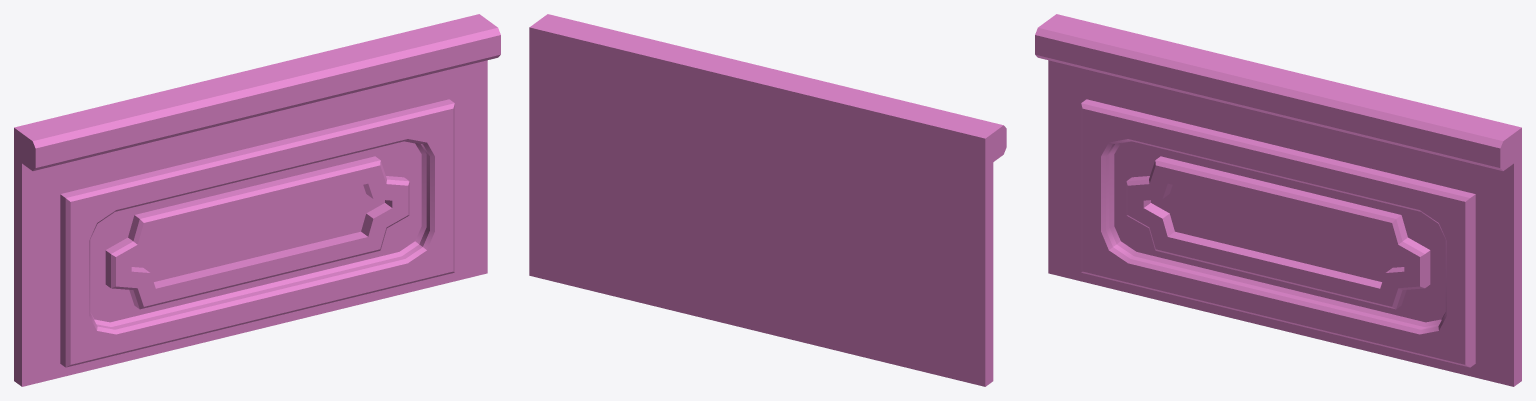
File: ENV_HAU_WALLTOP_MODEL.fbx
3 renders of one model, left to right at view 1: azimuth 30°, elevation 25°; view 2: azimuth 150°, elevation 25°; view 3: azimuth 330°, elevation 25°, orthographic. The views are drawn at different scales.
Visible parts, largest first — view 1: ENV_HAU_WALLTOP_MODEL; view 2: ENV_HAU_WALLTOP_MODEL; view 3: ENV_HAU_WALLTOP_MODEL.
Part boxes in pixels (<box>): ENV_HAU_WALLTOP_MODEL: <box>14,14,500,386</box>; ENV_HAU_WALLTOP_MODEL: <box>529,14,1006,386</box>; ENV_HAU_WALLTOP_MODEL: <box>1035,14,1521,386</box>.
Size of the model in its own units: 100 by 52.04 by 8.02.
